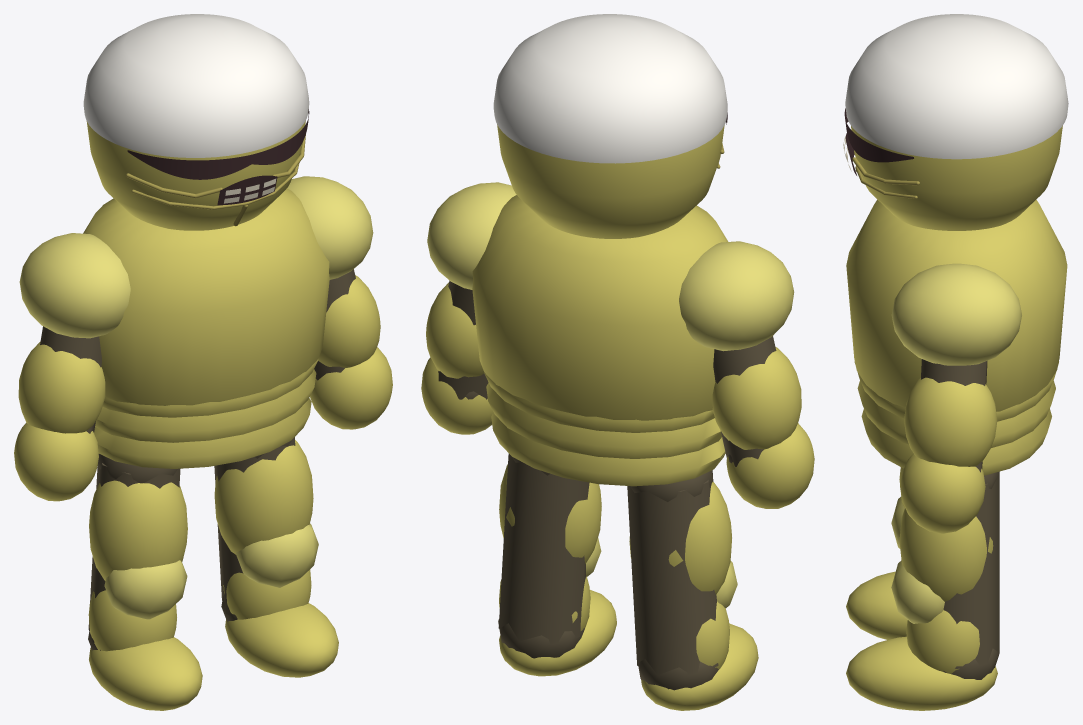
The model's file is npc_duru.glb.
3 views of the same model, side by side, from view 1: azimuth 30°, elevation 25°; view 2: azimuth 150°, elevation 25°; view 3: azimuth 270°, elevation 25° (orthographic). The views are drawn at different scales.
Visible parts, largest first — view 1: npc_duru__body, npc_duru__head, npc_duru__leg_R, npc_duru__arm_R, npc_duru__leg_L, npc_duru__arm_L; view 2: npc_duru__body, npc_duru__head, npc_duru__leg_R, npc_duru__arm_R, npc_duru__leg_L, npc_duru__arm_L; view 3: npc_duru__head, npc_duru__body, npc_duru__arm_L, npc_duru__leg_L, npc_duru__leg_R.
Boxes of the visible parts, x1,y1,x2,y2 form: npc_duru__body: [83, 188, 329, 468]; npc_duru__head: [83, 14, 309, 230]; npc_duru__leg_R: [88, 454, 202, 710]; npc_duru__arm_R: [14, 233, 130, 501]; npc_duru__leg_L: [214, 437, 338, 677]; npc_duru__arm_L: [287, 176, 392, 429]; npc_duru__body: [472, 195, 728, 486]; npc_duru__head: [493, 14, 727, 238]; npc_duru__leg_R: [627, 470, 758, 710]; npc_duru__arm_R: [679, 241, 814, 508]; npc_duru__leg_L: [498, 453, 616, 676]; npc_duru__arm_L: [421, 182, 516, 434]; npc_duru__head: [843, 14, 1068, 230]; npc_duru__body: [846, 199, 1067, 475]; npc_duru__arm_L: [891, 263, 1021, 533]; npc_duru__leg_L: [846, 472, 999, 710]; npc_duru__leg_R: [846, 467, 999, 639].
Bounding box in the file's own units: 0.756 × 1.26 × 0.3999.
